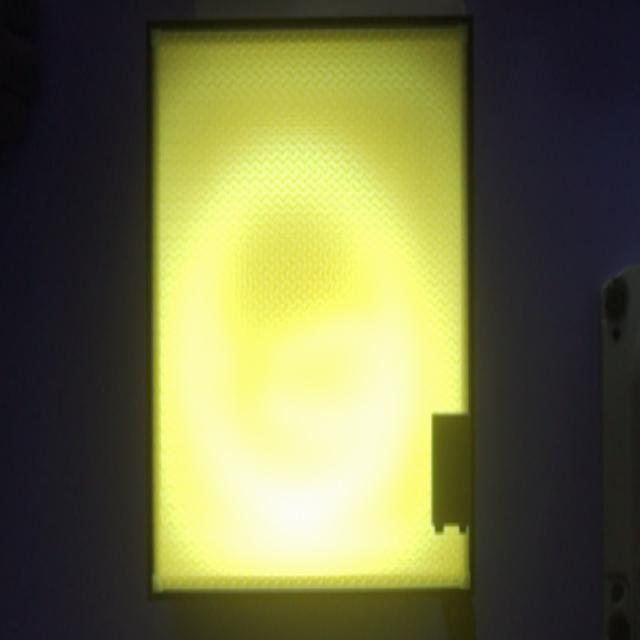bateria: (432, 413, 471, 534)
mesa: (146, 16, 476, 600)
